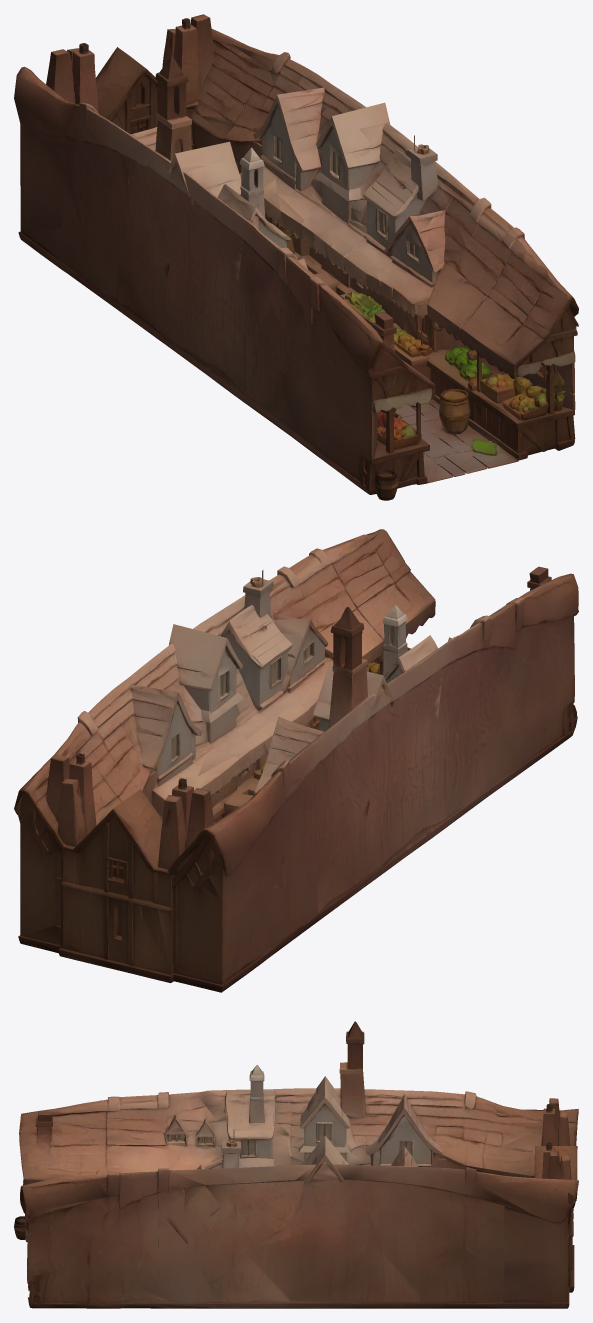
The picture shows the model from 3 angles, top to bottom: view 1: azimuth 30°, elevation 25°; view 2: azimuth 150°, elevation 25°; view 3: azimuth 270°, elevation 25°; orthographic projection. The views are drawn at different scales.
Parts seen in each view (by area): view 1: model; view 2: model; view 3: model.
Part boxes in pixels (bbox=[...]): model: bbox=[14, 14, 578, 500]; model: bbox=[14, 529, 578, 992]; model: bbox=[14, 1021, 578, 1308].
Bounding box in the file's own units: 0.63 × 0.8045 × 1.9.
1 material, 1 textured.
